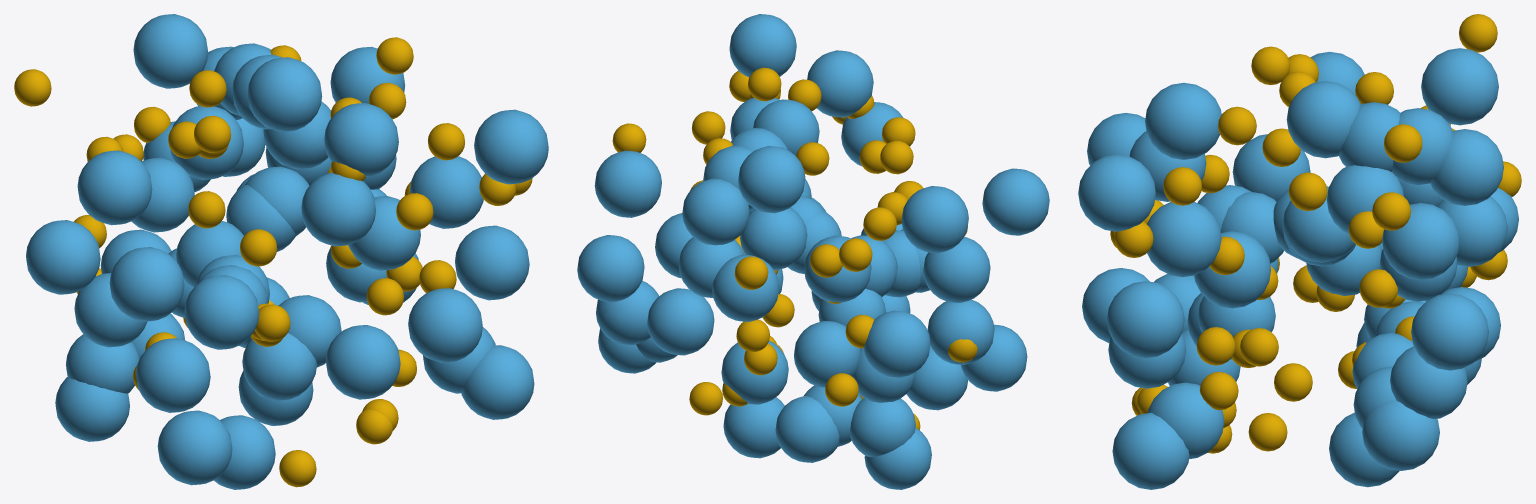
The picture shows the model from 3 angles, left to right: view 1: azimuth 30°, elevation 25°; view 2: azimuth 150°, elevation 25°; view 3: azimuth 270°, elevation 25°; orthographic projection. The views are drawn at different scales.
Bounding box in the file's own units: 22.88 × 22.76 × 22.78.
